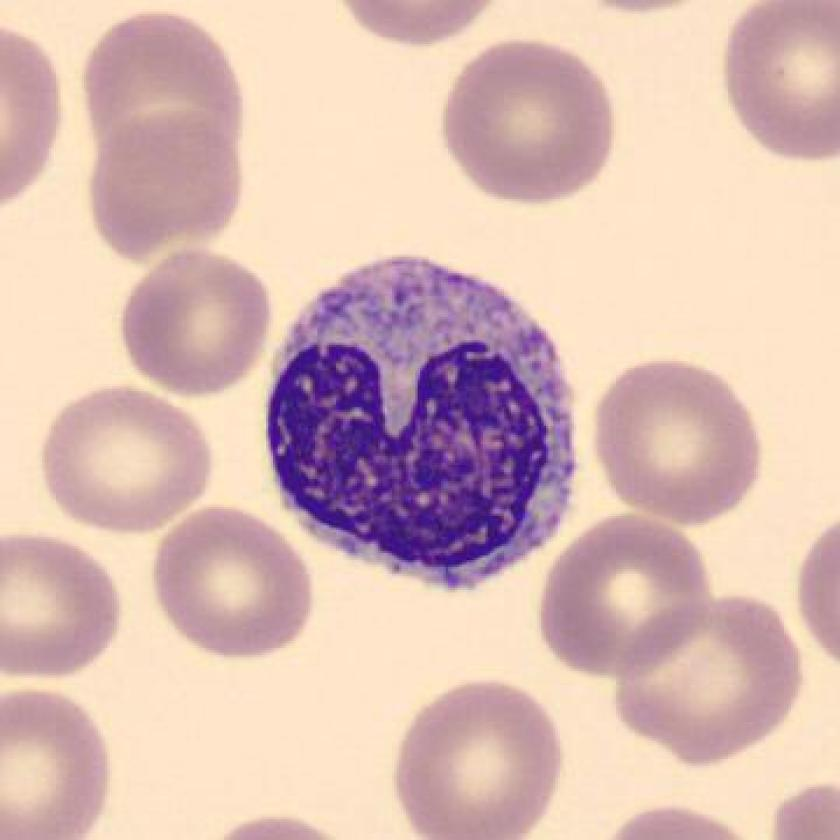monocyte: (244, 233, 605, 608)
